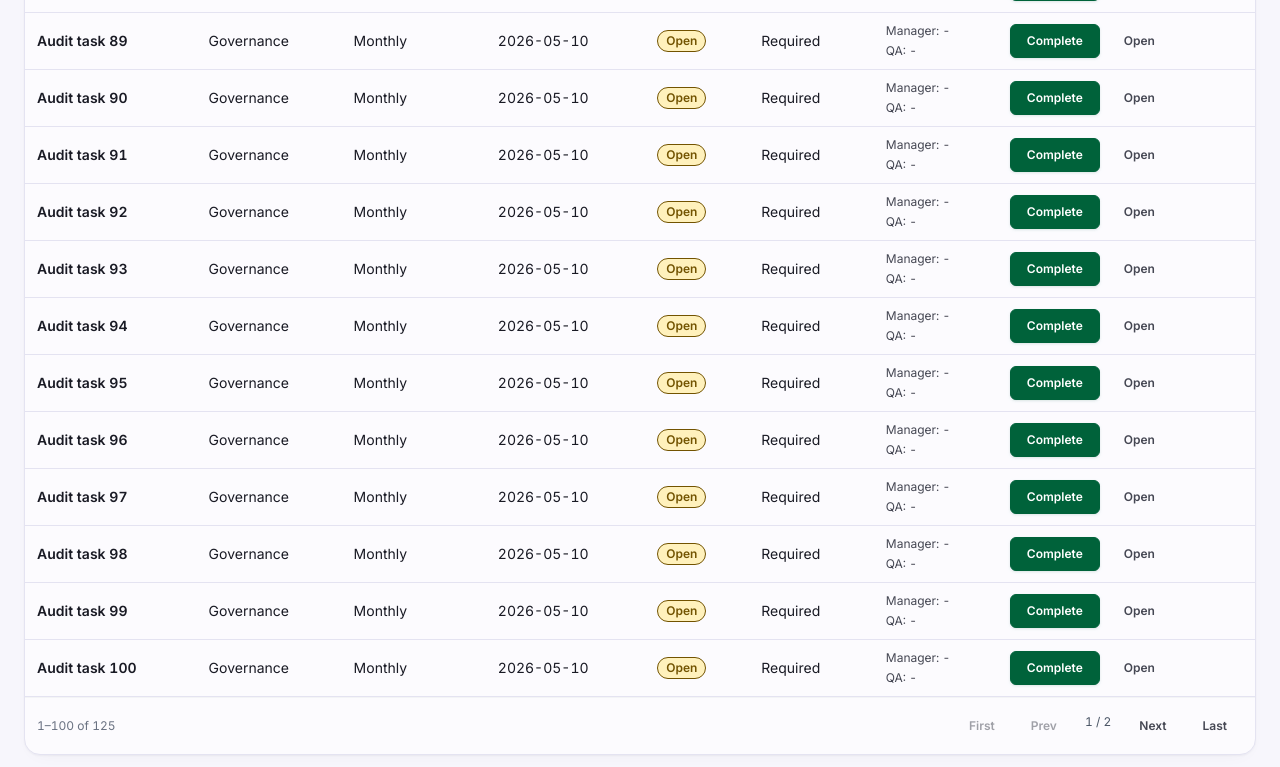
Test: AuditCalendar › shows the result count and requests subsequent audit-task pages
(page scrolled)
Click the button "Next" at (1153, 726), box [1123,710,1182,742]
(page scrolled)
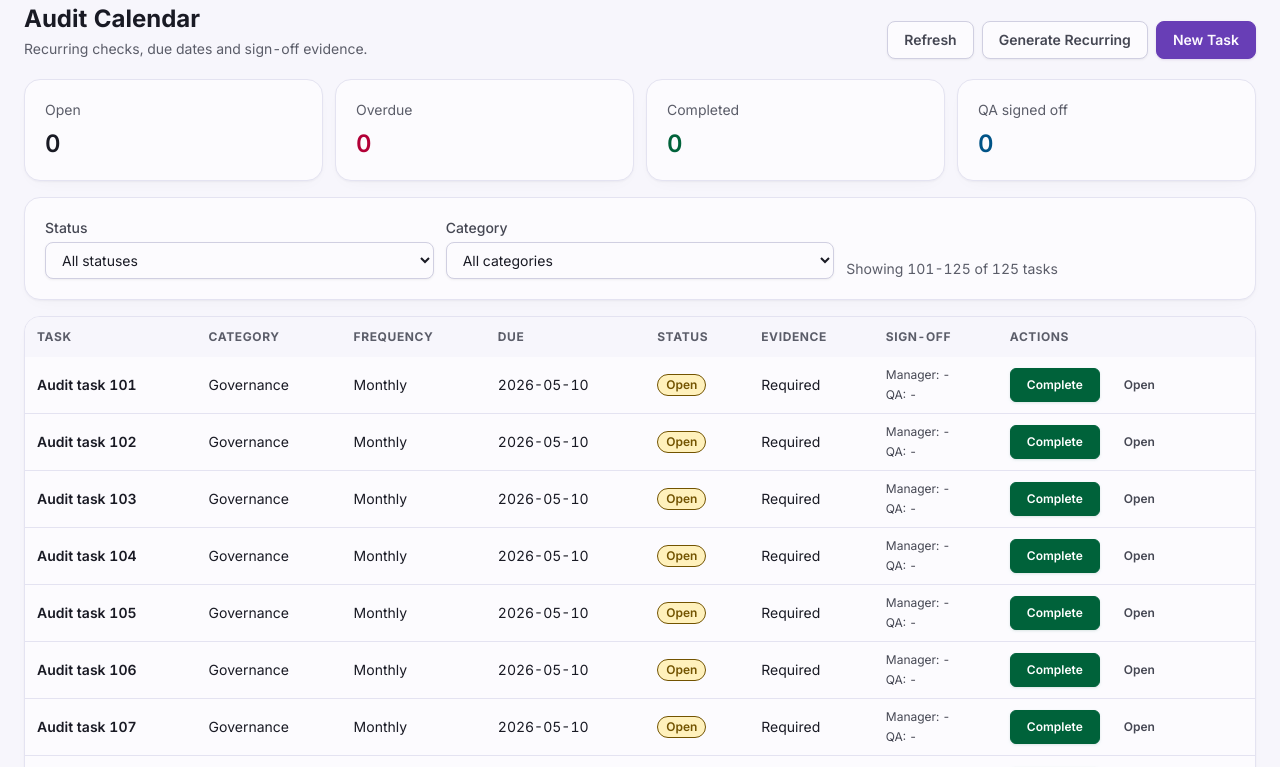
Check: the button "Audit task 101" is shown, box [37,375,136,395]
Check: the text "Showing 101-125 of 125 tasks" is shown, box [846,260,1058,277]
